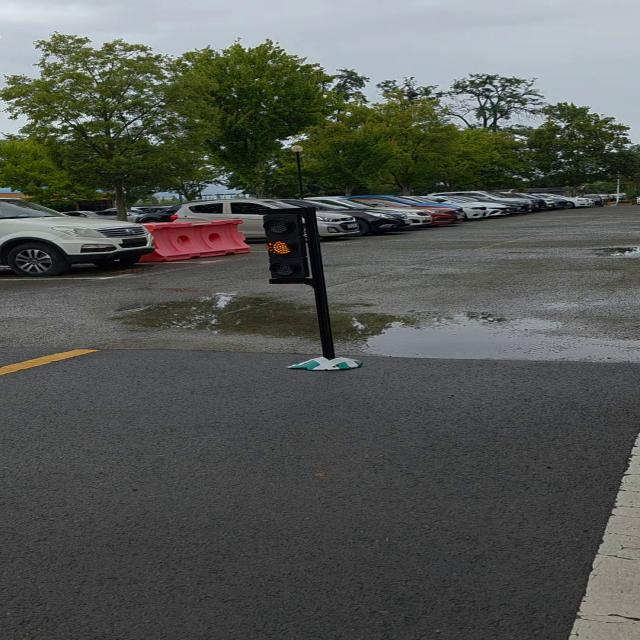yellow: (264, 208, 320, 284)
